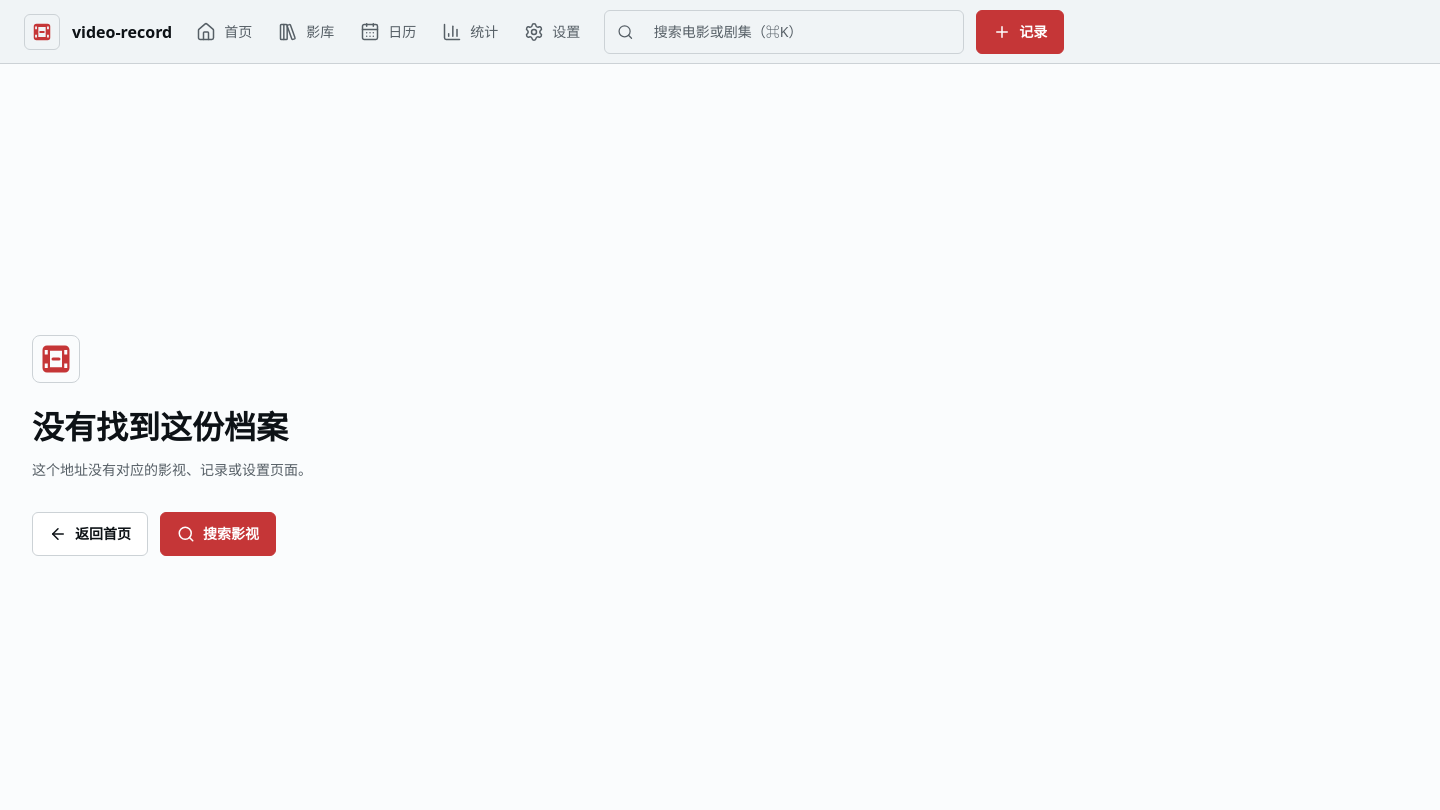
Test case: NotFoundPage route › opens the existing search dialog from the recovery action
Step 1. Click the button "搜索影视" → (218, 534), box [160, 512, 276, 556]
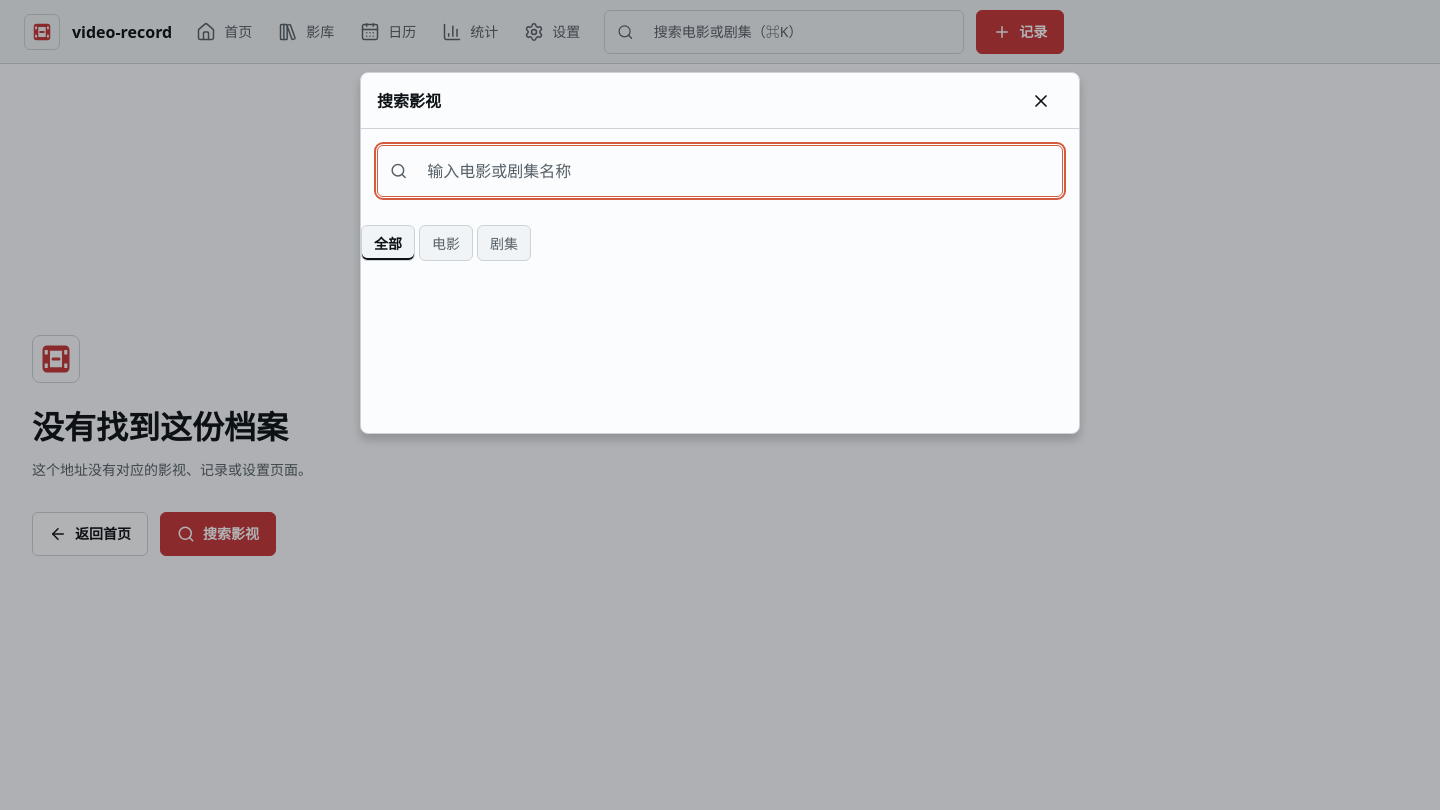
Result: the dialog "搜索影视" is shown at [360, 72, 1080, 434]
